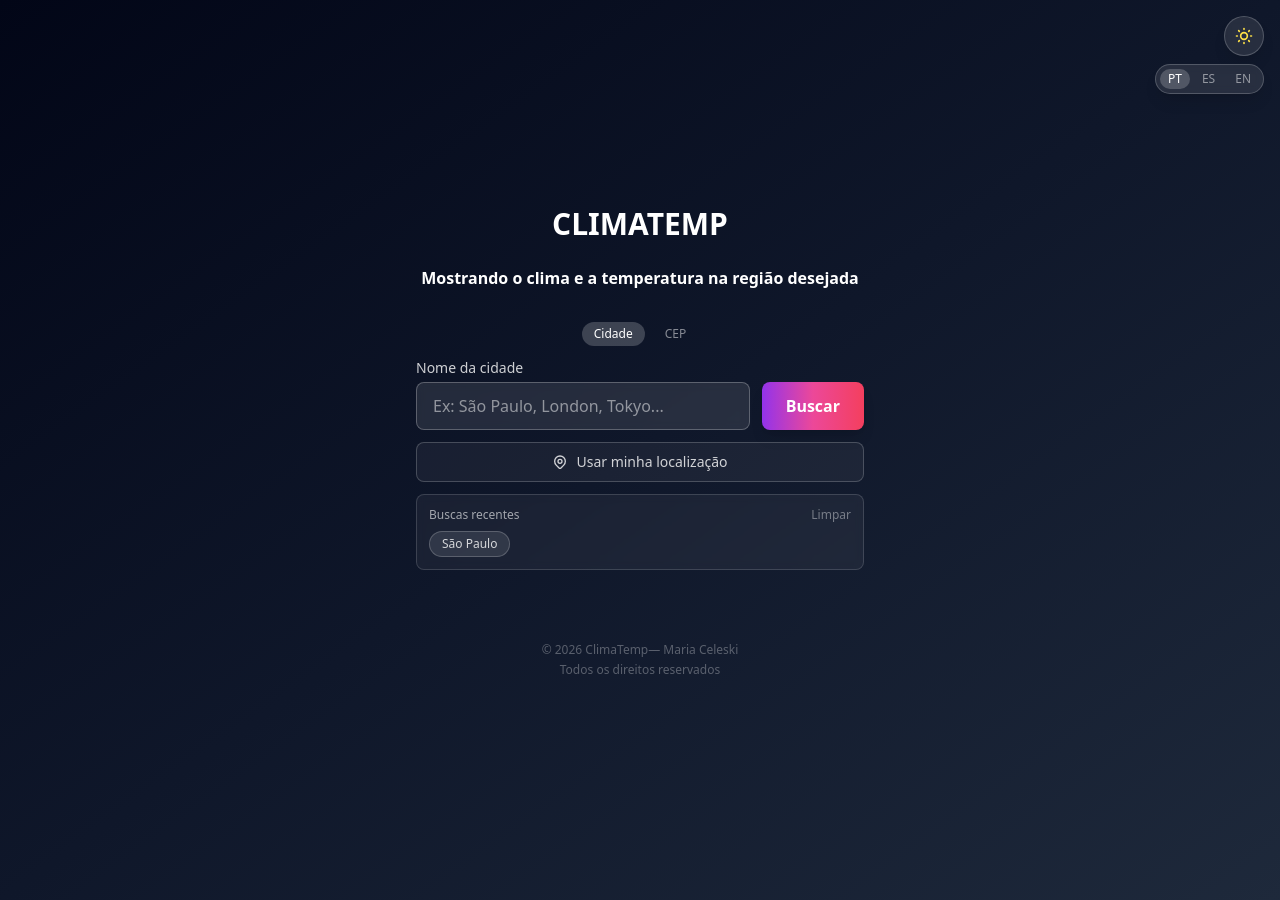
Test: App Integration Tests › should show error message when city is not found (404)
Type "CidadeInexistente" into the field labelled "Nome da cidade". click: (583, 406)
box: [416, 382, 750, 430]
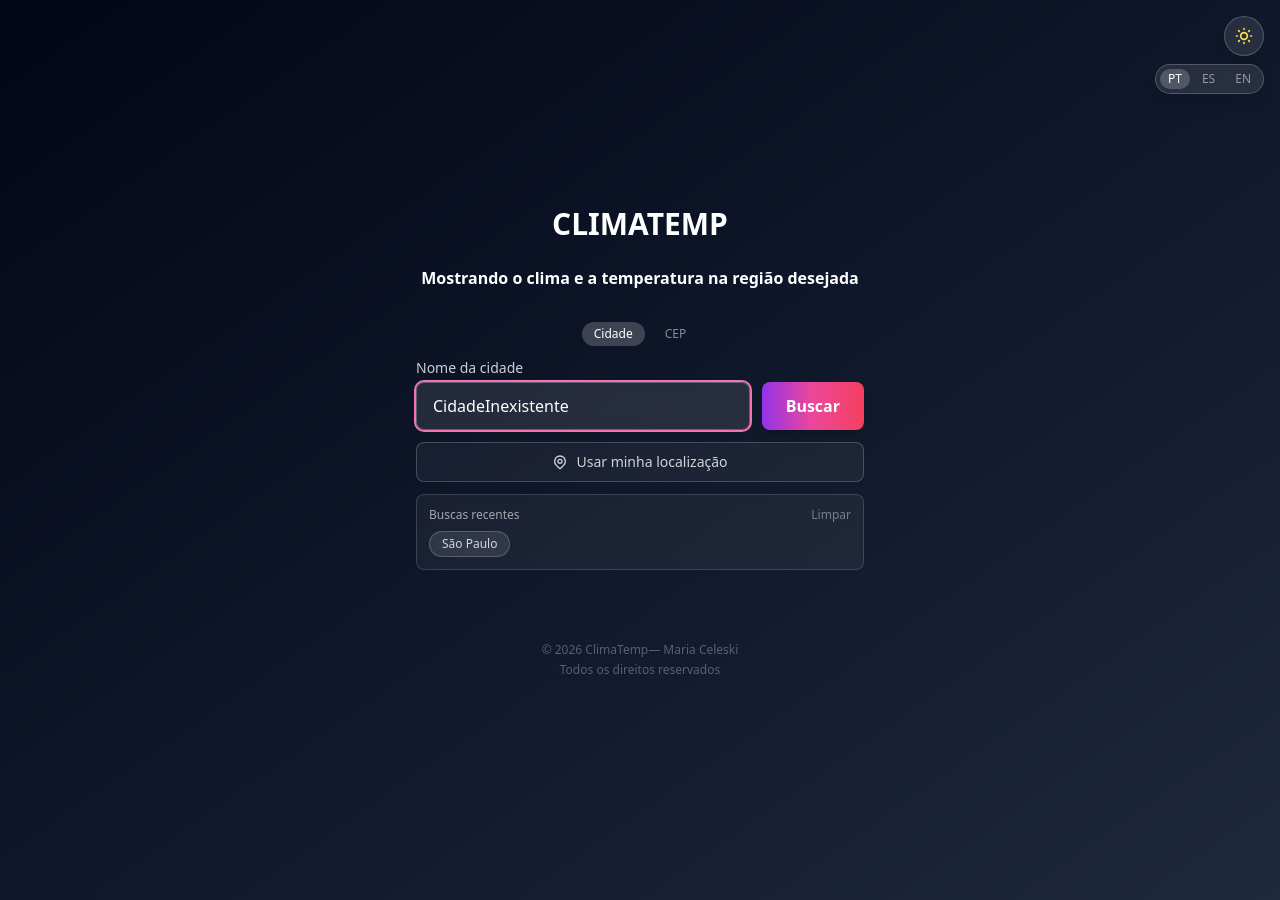
Click the button with aria-label "Buscar clima por cidade". click: (813, 406)
box: [762, 382, 864, 430]
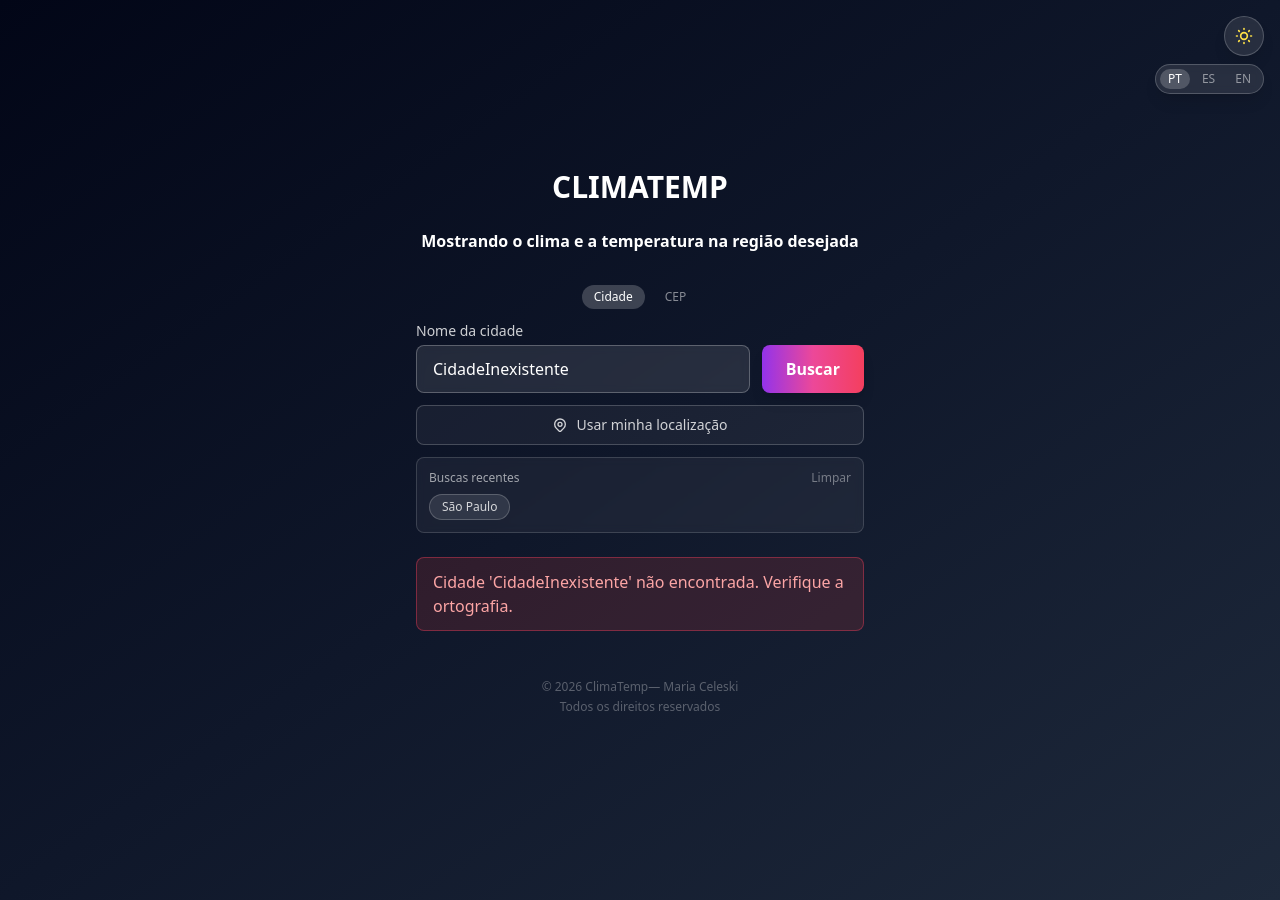
Expected: the message "Cidade 'CidadeInexistente' não encontrada. Verifique a ortografia." is shown, [416, 557, 864, 631]
Expected: the text "Cidade 'CidadeInexistente' não encontrada. Verifique a ortografia." is shown, [433, 570, 847, 618]
